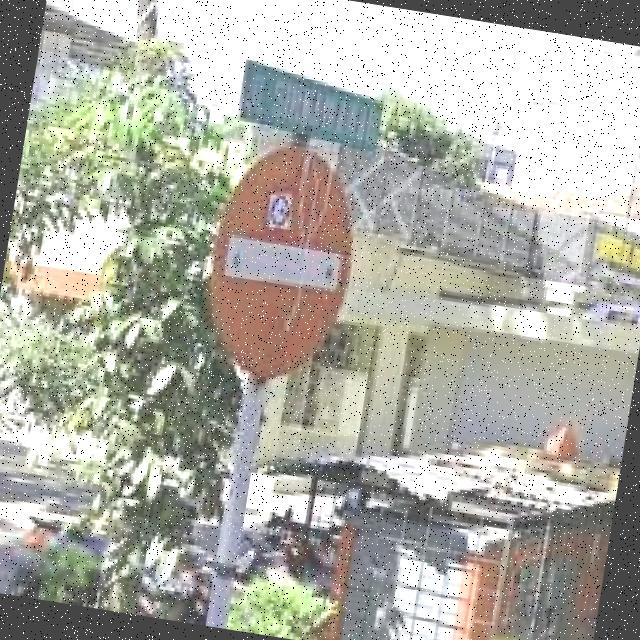Zakaz wjazdu: (200, 140, 366, 387)
